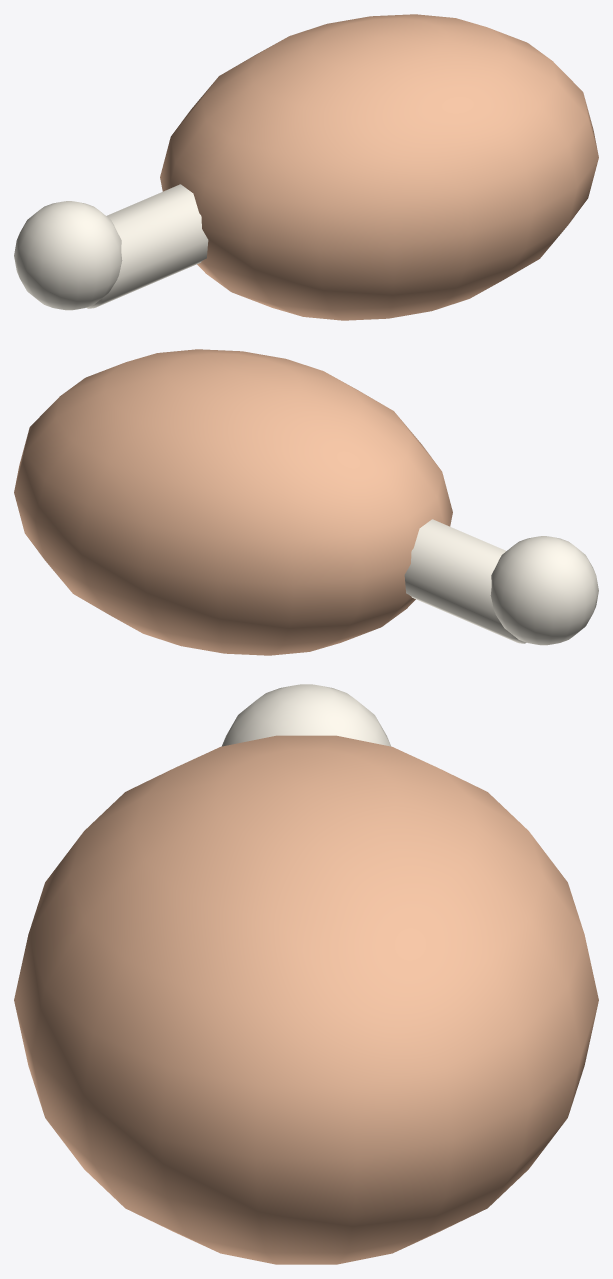
The model's file is food_chicken.glb.
3 views of the same model, one above another, from view 1: azimuth 30°, elevation 25°; view 2: azimuth 150°, elevation 25°; view 3: azimuth 270°, elevation 25° (orthographic). The views are drawn at different scales.
Parts seen in each view (by area): view 1: chicken; view 2: chicken; view 3: chicken.
Boxes of the visible parts, x1,y1,x2,y2 form: chicken: (14,14,598,320); chicken: (14,349,598,655); chicken: (14,684,598,1264).
Bounding box in the file's own units: 0.4658 × 0.208 × 0.26.
